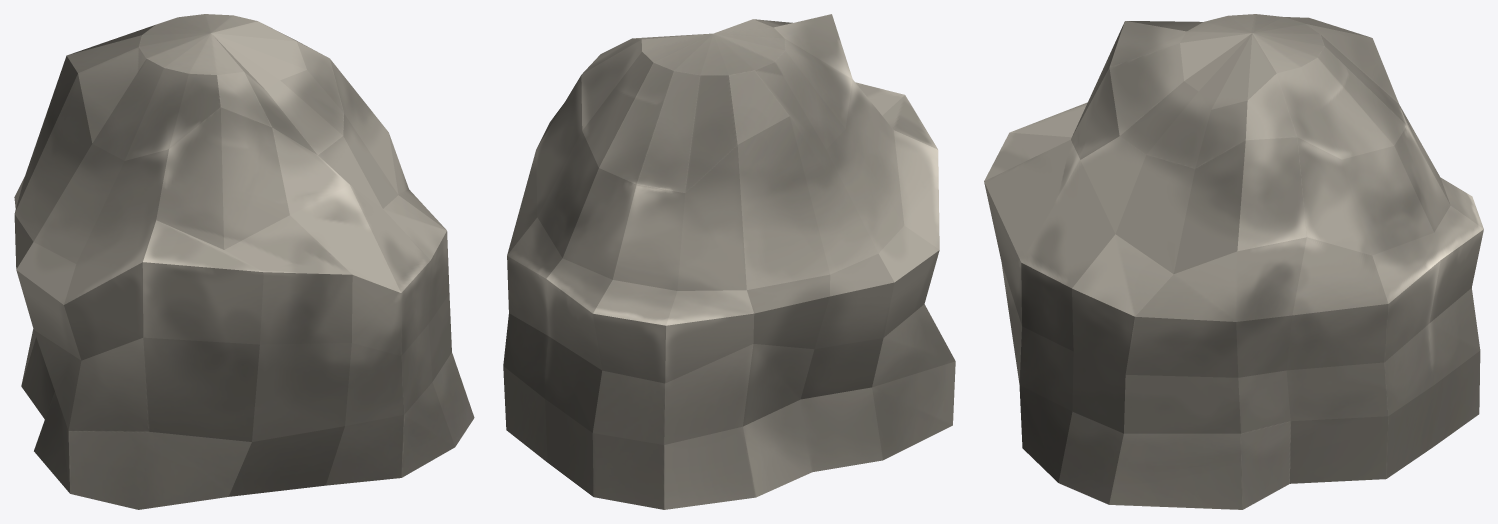
The model's file is crystal_04.glb.
The picture shows the model from 3 angles, left to right: view 1: azimuth 30°, elevation 25°; view 2: azimuth 150°, elevation 25°; view 3: azimuth 270°, elevation 25°; orthographic projection.
Parts seen in each view (by area): view 1: crystal_04; view 2: crystal_04; view 3: crystal_04.
Part boxes in pixels (x1,y1,x2,y2): crystal_04: (14, 14, 474, 509); crystal_04: (503, 14, 955, 509); crystal_04: (984, 14, 1483, 509).
Bounding box in the file's own units: 1.23 × 1.13 × 1.35.
1 material, 1 textured.
